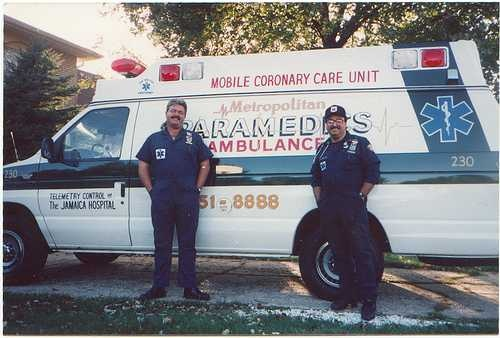Ambulance: (15, 36, 500, 332)
